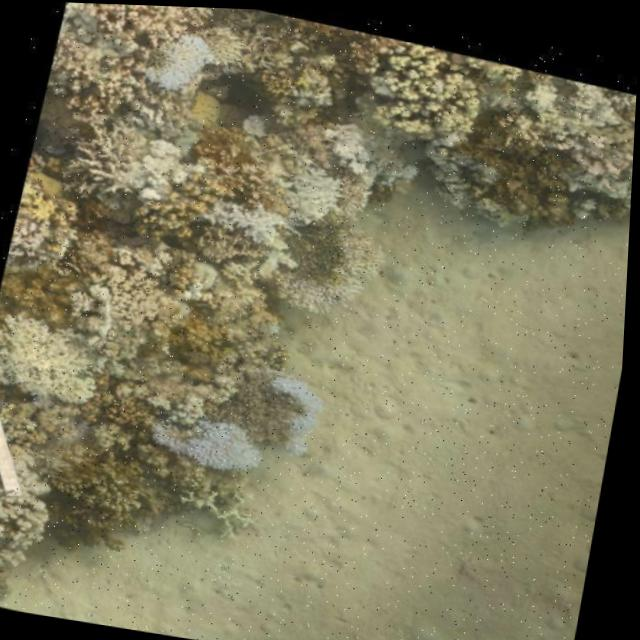Bleached Coral: (0, 311, 104, 415), (272, 218, 382, 316), (514, 60, 638, 143), (127, 13, 225, 102), (153, 400, 272, 473), (315, 109, 422, 183), (114, 128, 202, 210), (191, 183, 297, 246), (0, 483, 56, 582), (46, 1, 119, 73), (275, 366, 331, 455), (277, 153, 339, 227)
